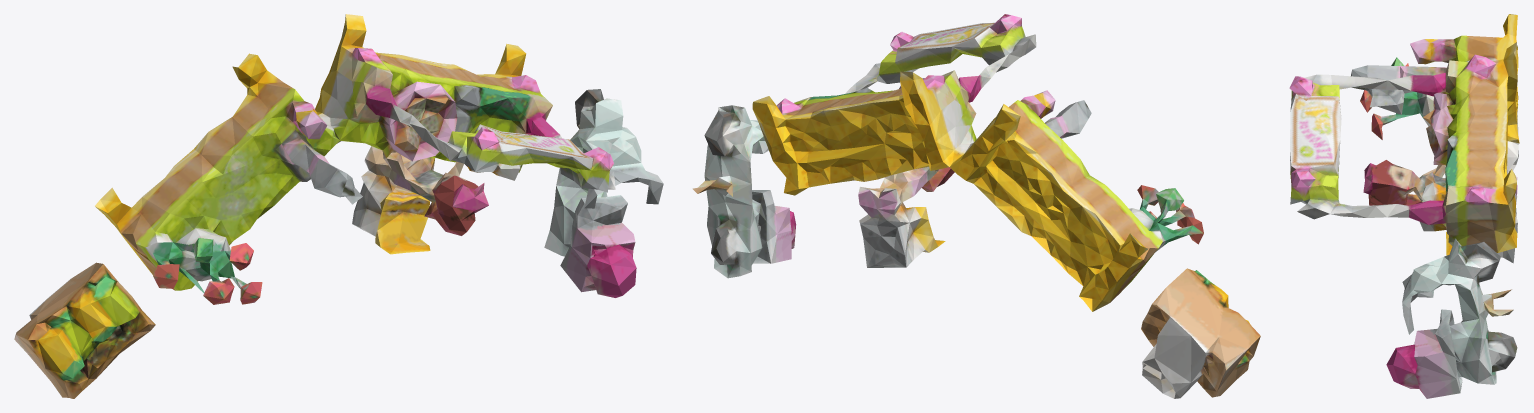
3 views of the same model, side by side, from view 1: azimuth 30°, elevation 25°; view 2: azimuth 150°, elevation 25°; view 3: azimuth 270°, elevation 25° (orthographic). The views are drawn at different scales.
Bounding box in the file's own units: 0.1971 × 0.0915 × 0.0739.
Materials: 1 (1 with a texture image).
